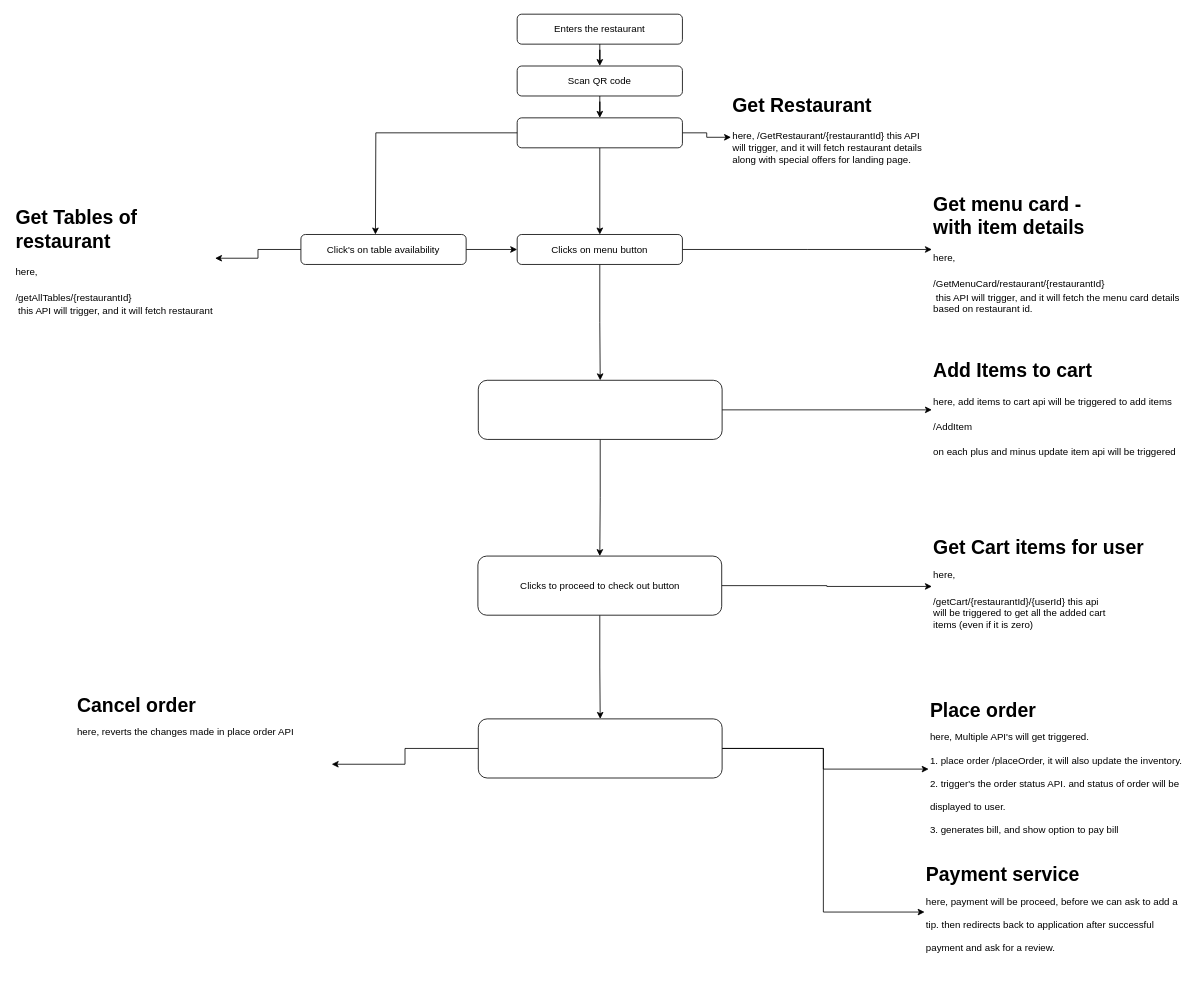
Image size: 1201x983. Some labels were removed from this diagram. The centre of each missing label's shape, as x and y in pixels:
Clicks to place 0rder button to place an order: (x=599, y=748)
Redirected to hotel's landing page: (x=599, y=132)
Scrolls throgh the menu and select items to add to cart (+,- buttons): (x=599, y=409)
